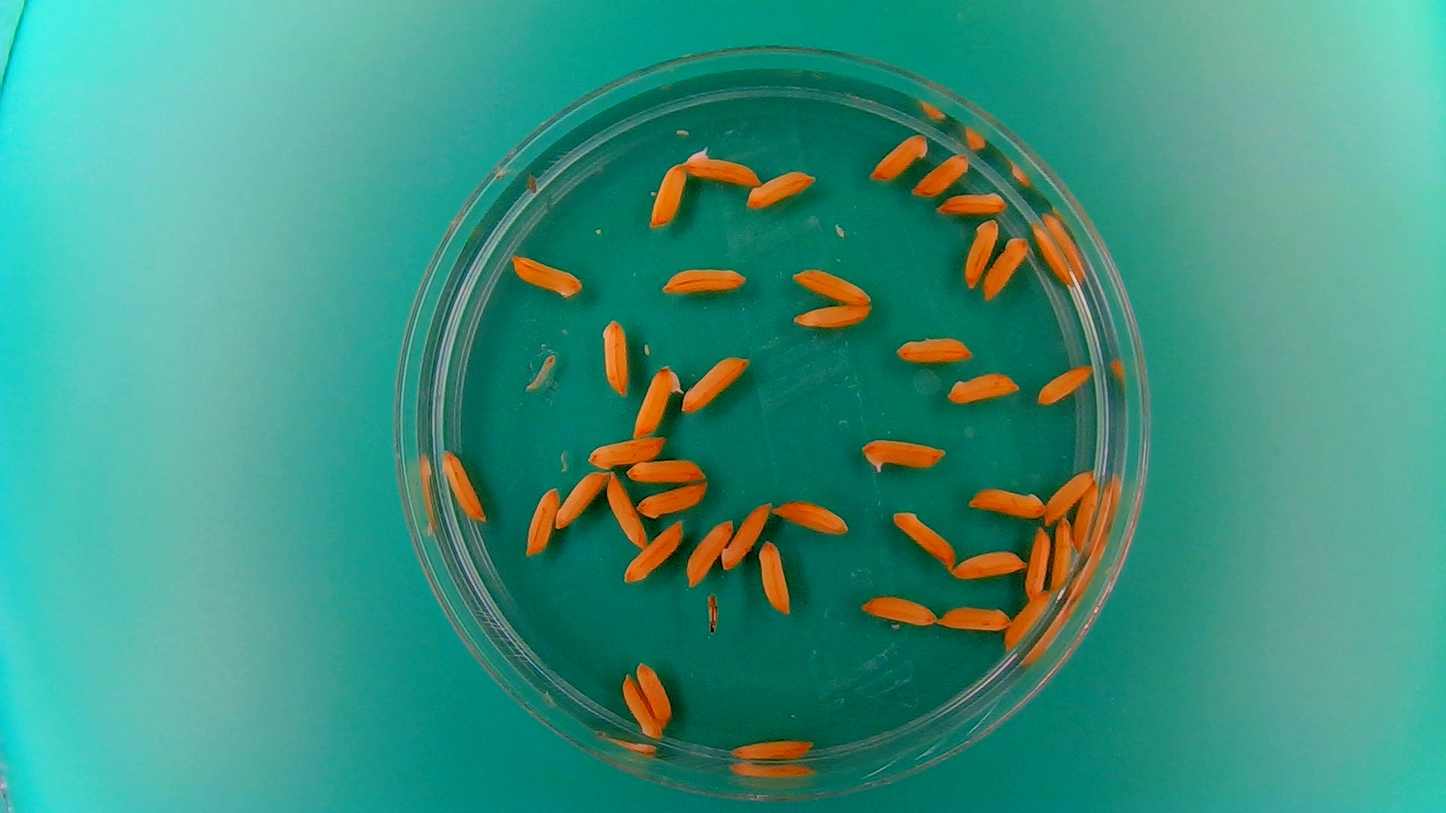no: (679, 349, 752, 414), (621, 517, 687, 586), (889, 504, 958, 568), (437, 446, 488, 525), (506, 250, 584, 300), (722, 497, 770, 574), (789, 263, 876, 304), (603, 468, 646, 550), (554, 467, 609, 531), (961, 485, 1042, 528), (684, 516, 732, 588), (1027, 217, 1075, 288), (981, 233, 1030, 302), (868, 129, 931, 182), (770, 495, 853, 535), (657, 261, 749, 297), (1043, 464, 1097, 525), (858, 590, 938, 629), (744, 166, 816, 209), (1004, 588, 1053, 651), (645, 160, 688, 230), (910, 150, 972, 198), (633, 480, 709, 519), (585, 433, 667, 469), (892, 330, 975, 365), (946, 367, 1022, 405), (618, 671, 659, 741), (523, 484, 561, 558), (758, 535, 793, 615), (962, 215, 1000, 288), (635, 657, 673, 729), (599, 315, 631, 398), (1036, 361, 1095, 406), (949, 546, 1027, 580), (790, 300, 875, 331), (937, 601, 1013, 633), (627, 455, 707, 485), (1070, 479, 1102, 553), (729, 734, 816, 761), (935, 187, 1011, 216), (1023, 525, 1052, 601), (1050, 513, 1075, 595)
yes: (631, 361, 685, 440), (857, 431, 947, 476), (682, 142, 761, 187)
